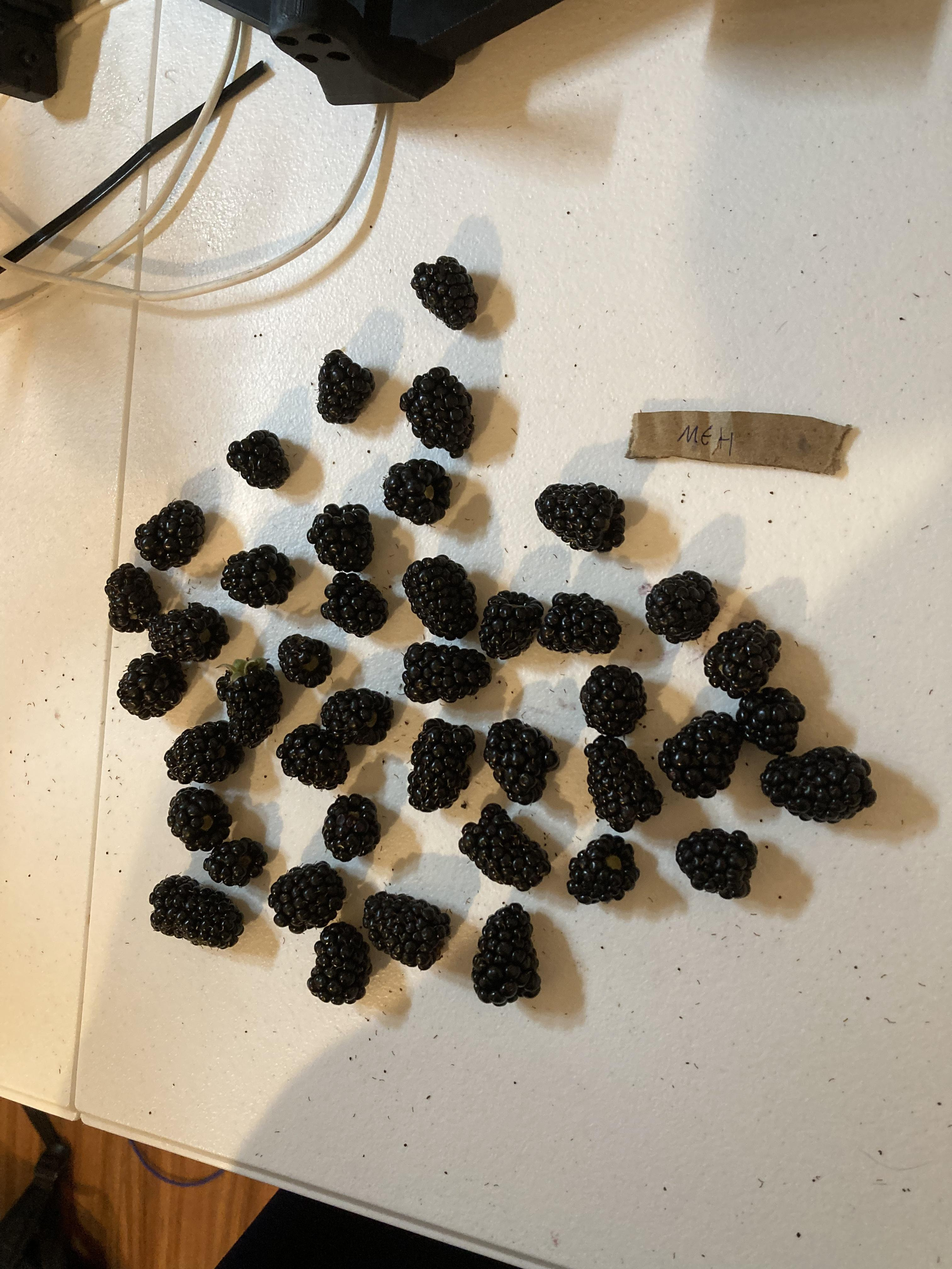berry: (761, 745, 873, 819), (459, 804, 550, 891), (472, 904, 541, 1006), (587, 735, 659, 827), (362, 892, 449, 965), (662, 711, 737, 793), (151, 876, 241, 943), (401, 369, 471, 452), (485, 719, 556, 798), (409, 721, 474, 807), (538, 483, 622, 549), (404, 557, 474, 636), (708, 620, 778, 696), (677, 827, 754, 894), (404, 640, 488, 700), (645, 573, 718, 640), (270, 862, 343, 928), (223, 660, 281, 743), (149, 602, 229, 662), (736, 687, 805, 755), (311, 920, 367, 1003), (135, 499, 205, 565), (581, 664, 645, 735), (543, 592, 618, 650), (166, 721, 236, 783), (569, 835, 635, 900), (321, 688, 393, 745), (119, 652, 183, 716), (384, 458, 449, 521), (282, 724, 346, 787), (311, 504, 373, 569), (413, 259, 474, 325), (480, 591, 541, 656), (221, 549, 294, 602), (168, 787, 230, 848), (105, 563, 159, 630), (324, 573, 385, 632), (320, 353, 373, 418), (324, 793, 379, 854), (229, 432, 288, 486), (203, 838, 267, 886), (279, 636, 331, 684)
